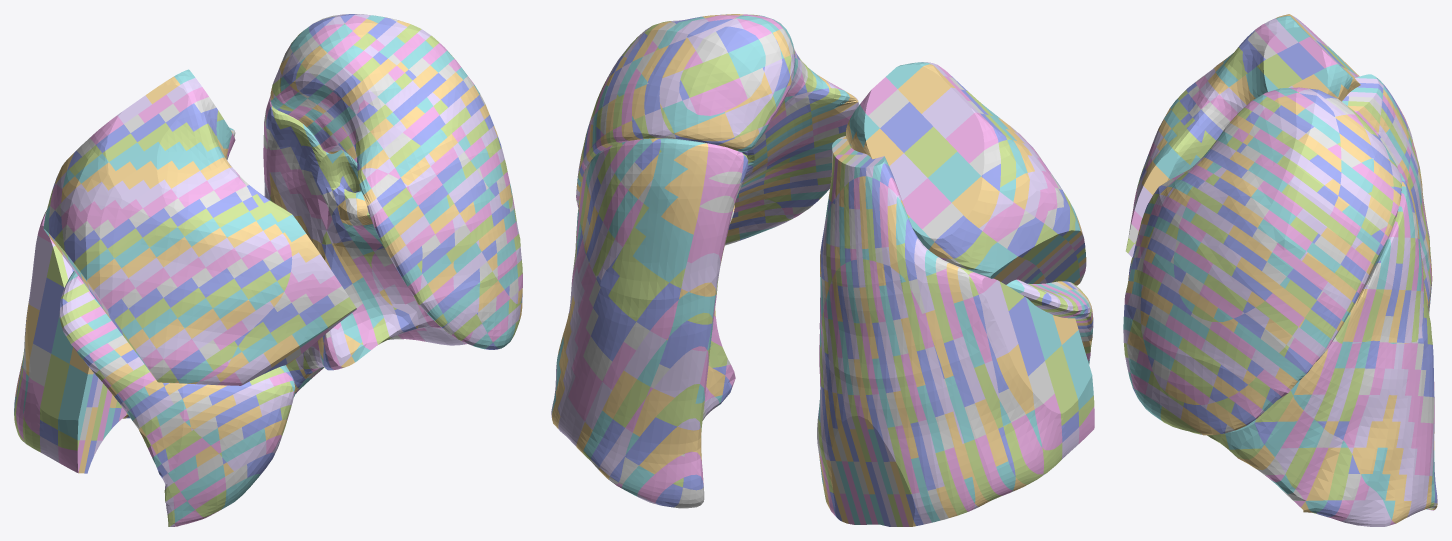
The model's file is lung-female-large.glb.
The picture shows the model from 3 angles, left to right: view 1: azimuth 30°, elevation 25°; view 2: azimuth 150°, elevation 25°; view 3: azimuth 270°, elevation 25°; orthographic projection. The views are drawn at different scales.
Visible parts, largest first — view 1: RLL-1F8, RLL-1F9, RLL-1E8, RLL-1D7, RLL-1D8, RLL-1D6, RLL-1E9, RLL-1C5; view 2: RLL-1C6, LLL-6C7, RLL-1C5, RLL-1D9, RLL-1C7, LLL-7C6, RUL-1C3, LUL-1C7, RUL-1A7, LUL-1C6, RUL-1B4, RUL-1A9 (+37 smaller); view 3: LLL-25D11, LLL-20C13, LLL-24C11, LLL-22C12, RUL-1B12, LLL-25C10, LLL-23C11, LLL-24B9, RUL-4B12, RUL-3B12, RUL-2B12, RUL-1A12 (+18 smaller).
Part boxes in pixels (x1=…): RLL-1F8: x1=62, y1=364, x2=93, y2=407; RLL-1F9: x1=58, y1=397, x2=86, y2=440; RLL-1E8: x1=44, y1=354, x2=69, y2=396; RLL-1D7: x1=33, y1=311, x2=57, y2=353; RLL-1D8: x1=28, y1=343, x2=50, y2=386; RLL-1D6: x1=40, y1=278, x2=64, y2=320; RLL-1E9: x1=40, y1=387, x2=62, y2=429; RLL-1C5: x1=33, y1=235, x2=55, y2=277; RLL-1C6: x1=986, y1=311, x2=1018, y2=358; LLL-6C7: x1=668, y1=320, x2=711, y2=349; RLL-1C5: x1=979, y1=280, x2=1008, y2=327; RLL-1D9: x1=1034, y1=393, x2=1061, y2=441; RLL-1C7: x1=996, y1=344, x2=1027, y2=388; LLL-7C6: x1=675, y1=292, x2=715, y2=320; RUL-1C3: x1=935, y1=215, x2=978, y2=254; LUL-1C7: x1=680, y1=63, x2=714, y2=97; RUL-1A7: x1=946, y1=112, x2=990, y2=151; LUL-1C6: x1=703, y1=53, x2=739, y2=87; RUL-1B4: x1=952, y1=176, x2=996, y2=214; RUL-1A9: x1=922, y1=87, x2=966, y2=126; LLL-25D11: x1=1225, y1=422, x2=1264, y2=449; LLL-20C13: x1=1306, y1=474, x2=1333, y2=500; LLL-24C11: x1=1264, y1=421, x2=1296, y2=448; LLL-22C12: x1=1285, y1=447, x2=1315, y2=474; RUL-1B12: x1=1299, y1=37, x2=1337, y2=68; LLL-25C10: x1=1255, y1=395, x2=1292, y2=422; LLL-23C11: x1=1281, y1=421, x2=1312, y2=448; LLL-24B9: x1=1294, y1=368, x2=1322, y2=394; RUL-4B12: x1=1266, y1=54, x2=1302, y2=85; RUL-3B12: x1=1277, y1=48, x2=1313, y2=79; RUL-2B12: x1=1288, y1=42, x2=1324, y2=73; RUL-1A12: x1=1276, y1=16, x2=1311, y2=42.
Bounding box in the file's own units: 0.2511 × 0.223 × 0.1526.
